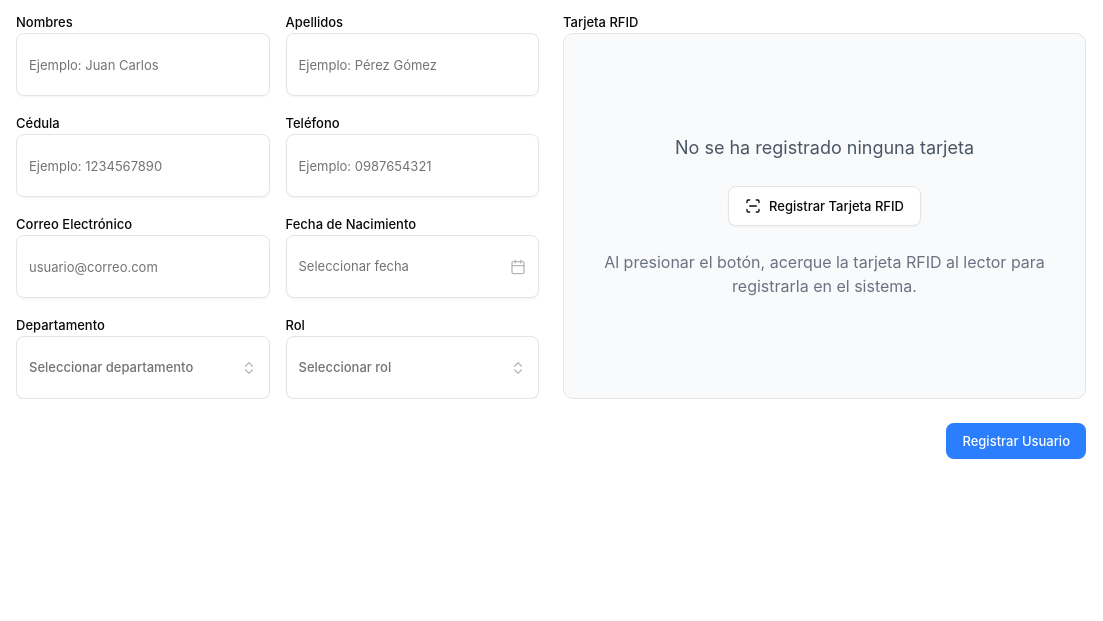
Test: FormularioUsuario Component › Validación cuando faltan campos obligatorios
This screenshot has width=1103, height=621.
Click the button "Registrar Usuario". click: (1016, 441)
box: [946,423,1086,459]
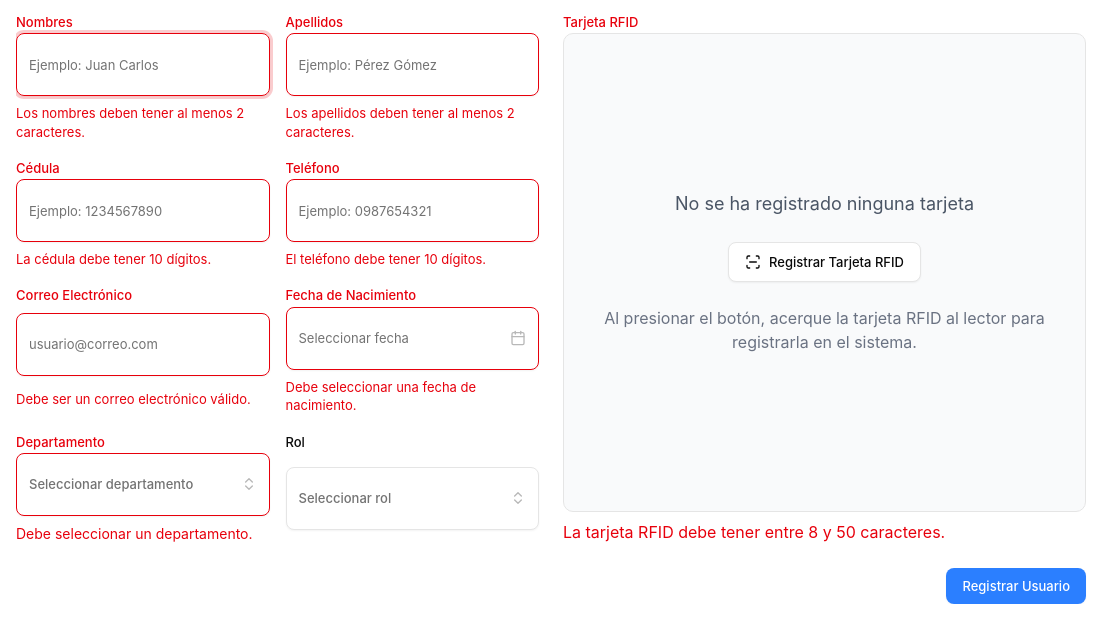
Expected: the text "Los nombres deben tener al menos 2 caracteres." is shown, [16,104,270,141]
Expected: the text "Los apellidos deben tener al menos 2 caracteres." is shown, [286,104,539,141]
Expected: the text "El teléfono debe tener 10 dígitos." is shown, [286,251,486,267]
